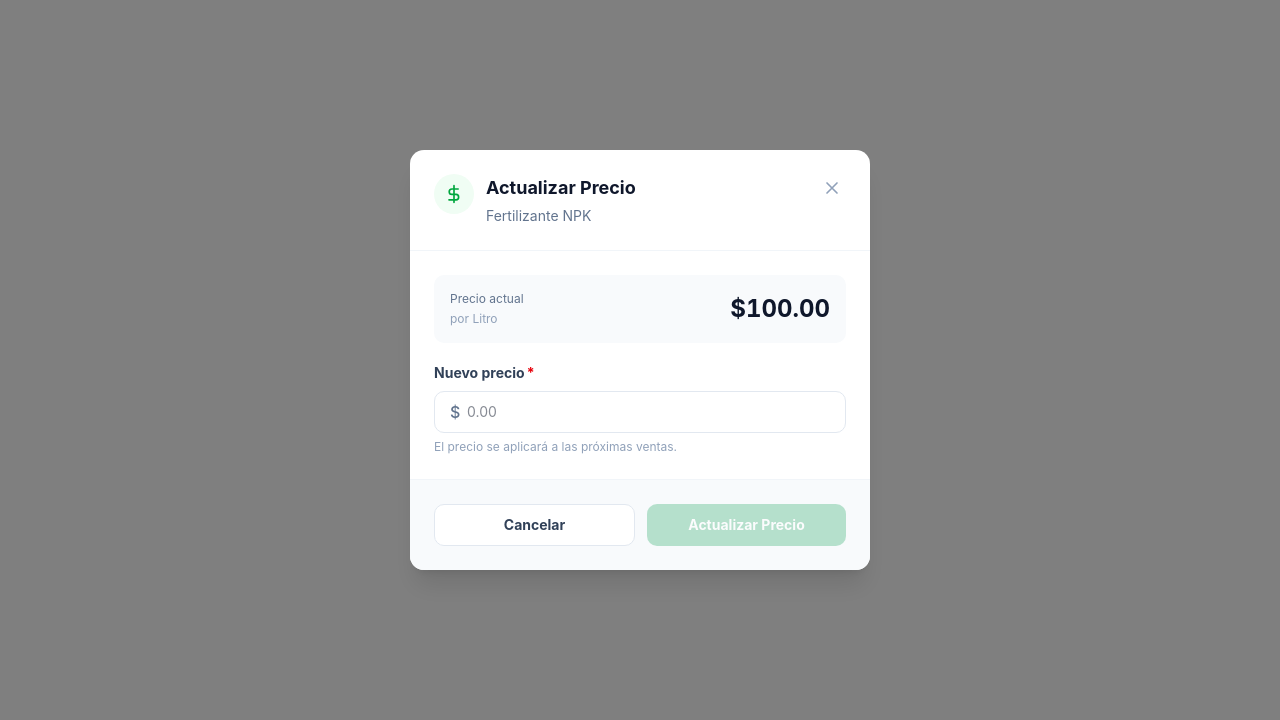
Test: NuevoPrecioModal › shows a price decrease summary
Type "50" into the number field.
click(640, 412); type("50")  # box [434, 391, 846, 433]
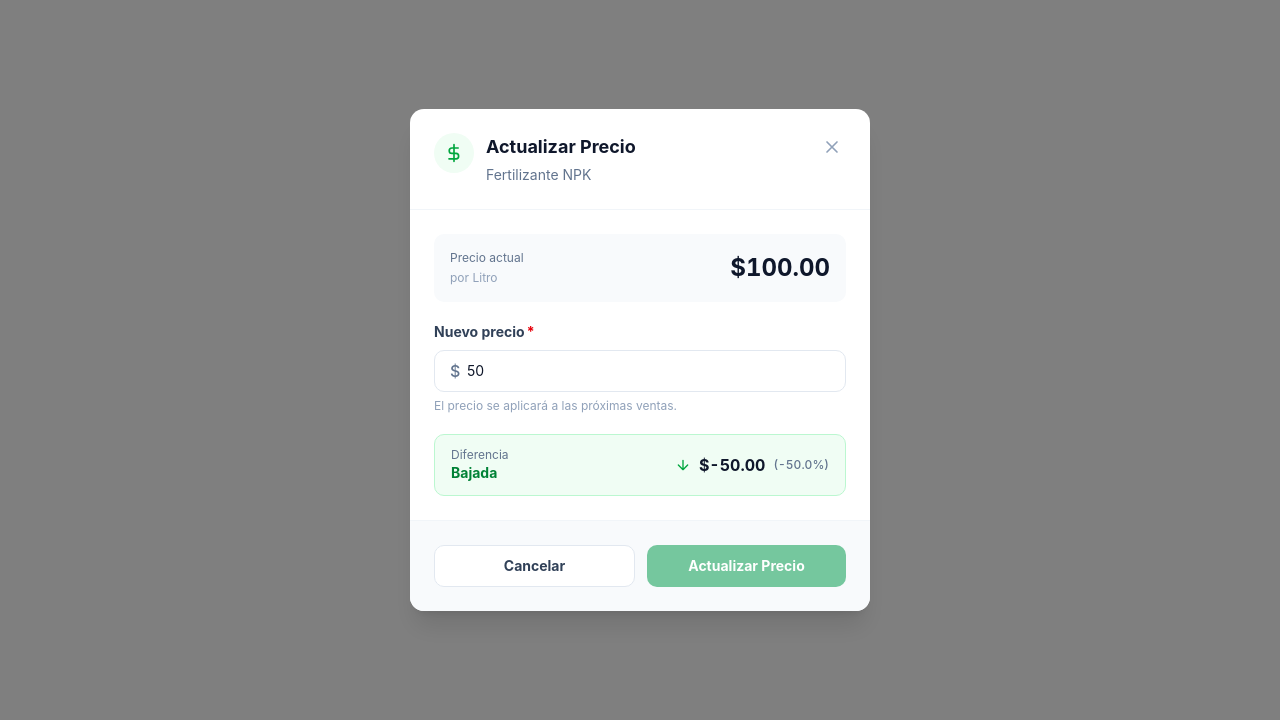
Now the text "Bajada" is shown, box [451, 464, 497, 481]
